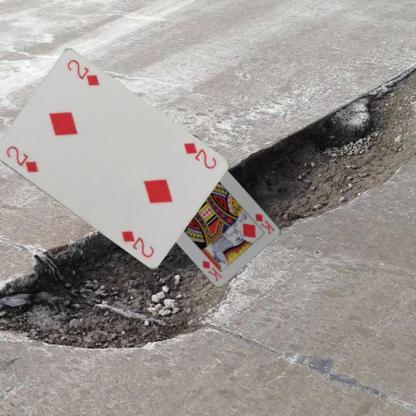2d: (180, 138, 218, 171), (3, 143, 39, 175)
Kd: (253, 211, 276, 236)
